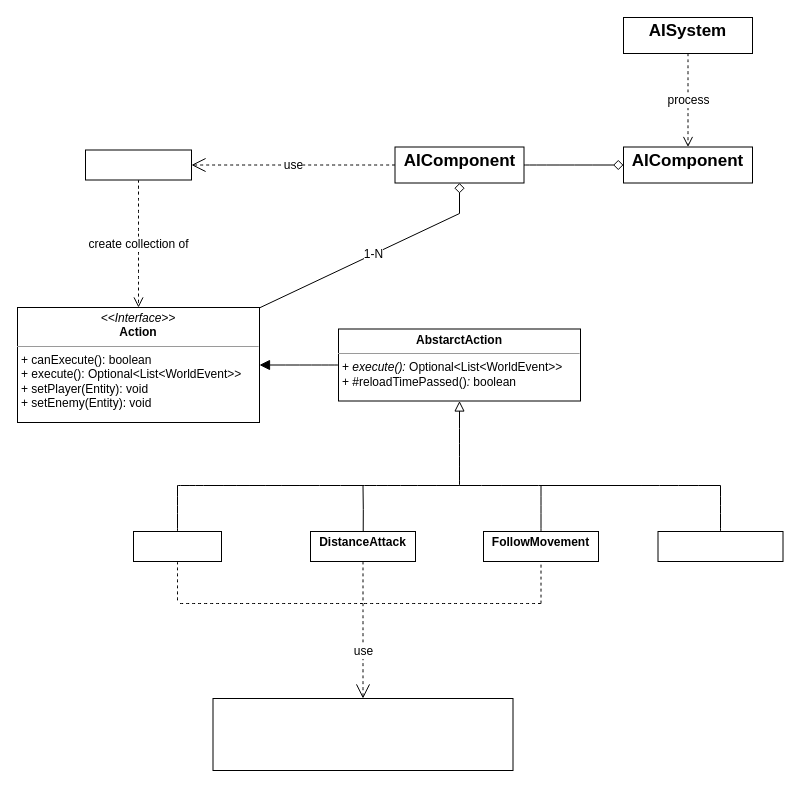
The diagram is 801 pixels wide and 788 high, and some of its shapes have lost their labels. Here are the shapes that lost their labels. From the top down, the box of each, then its label:
(84, 149, 192, 180): RoutineFactory
(132, 530, 222, 562): MeleeAttack
(657, 530, 783, 562): RandomMovement
(212, 698, 513, 770): Behaiour Util + getPlayerDirection(Vector2D, Vector2D): Vector2D
